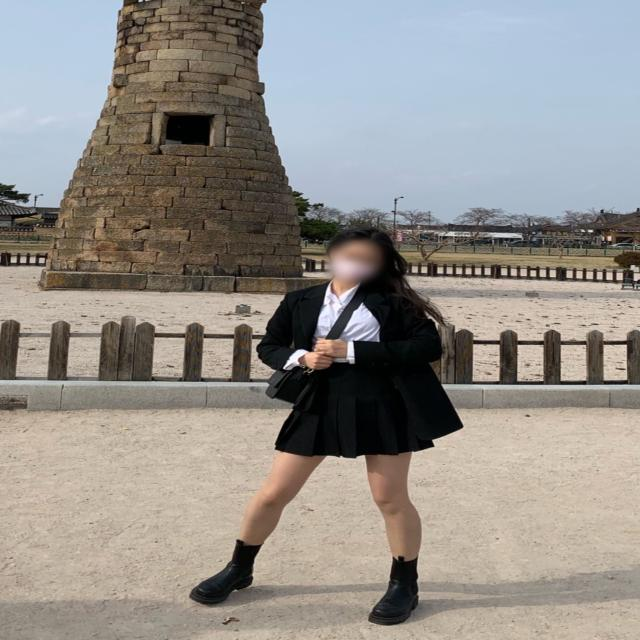blazer: (258, 276, 450, 407)
skirt: (272, 352, 462, 458)
